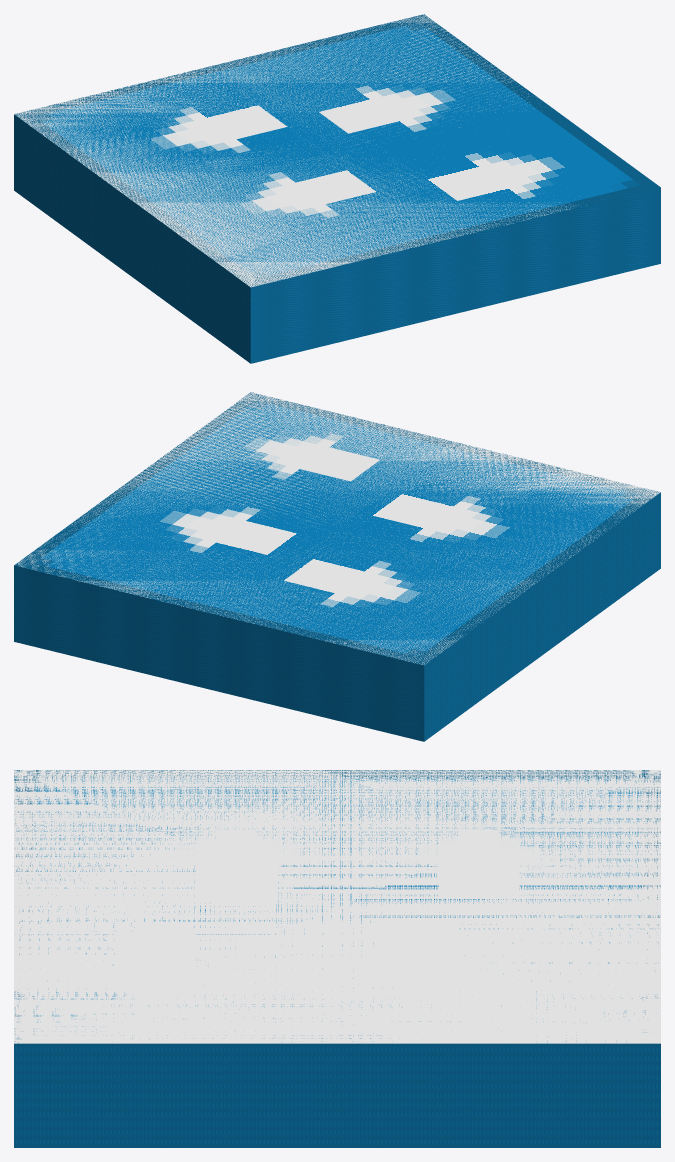
The model's file is optical switch.dae.
The picture shows the model from 3 angles, top to bottom: view 1: azimuth 30°, elevation 25°; view 2: azimuth 150°, elevation 25°; view 3: azimuth 270°, elevation 25°; orthographic projection. The views are drawn at different scales.
Parts seen in each view (by area): view 1: image_1, SketchUp (×2); view 2: image_1, SketchUp (×2); view 3: SketchUp (×2), image_1.
Part boxes in pixels (<box>): image_1: <box>15,14,660,286</box>; SketchUp (×2): <box>14,14,660,363</box>; image_1: <box>14,392,659,665</box>; SketchUp (×2): <box>14,392,660,741</box>; SketchUp (×2): <box>14,770,660,1147</box>; image_1: <box>14,770,660,1042</box>.
Bounding box in the file's own units: 192266 × 192266 × 34206.
